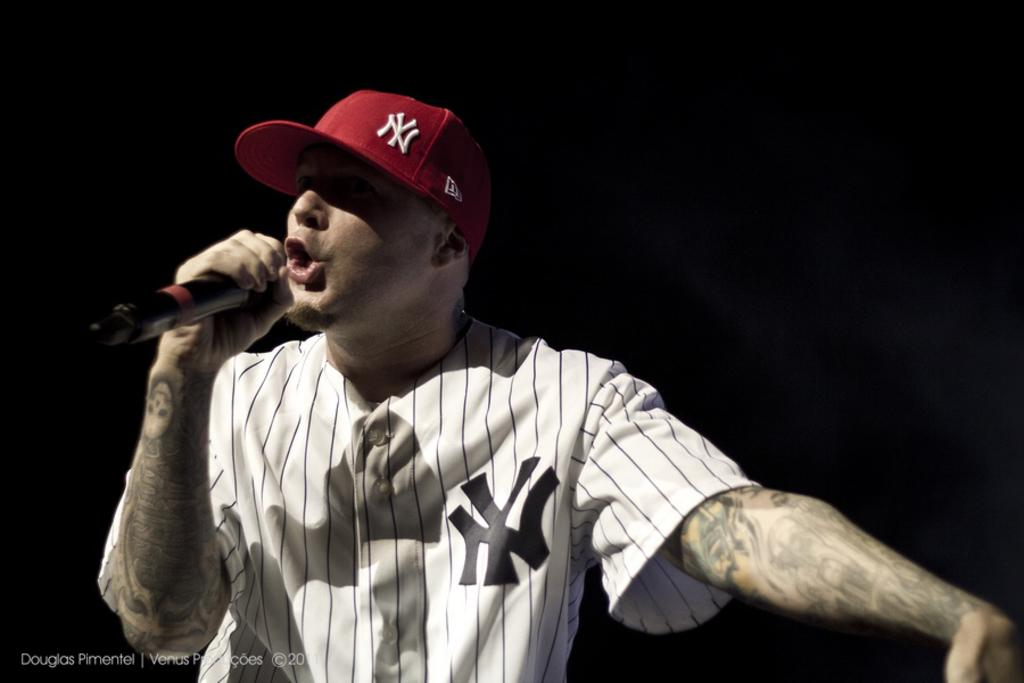Hat: (235, 90, 492, 264)
